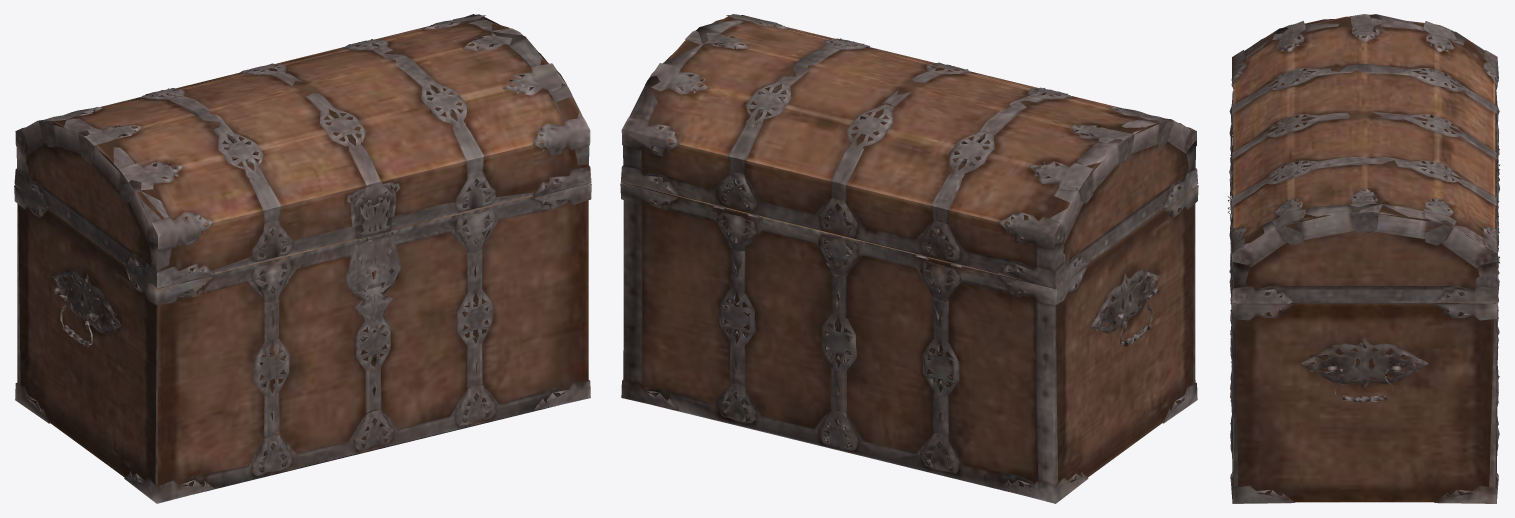
Rendered from chest.glb.
3 views of the same model, side by side, from view 1: azimuth 30°, elevation 25°; view 2: azimuth 150°, elevation 25°; view 3: azimuth 270°, elevation 25° (orthographic). The views are drawn at different scales.
Parts seen in each view (by area): view 1: chest; view 2: chest; view 3: chest.
Part boxes in pixels (x1=…): chest: x1=14, y1=14, x2=591, y2=503; chest: x1=620, y1=14, x2=1198, y2=503; chest: x1=1228, y1=14, x2=1499, y2=503.
Bounding box in the file's own units: 0.95 × 0.6209 × 0.5236.
1 material, 1 textured.
